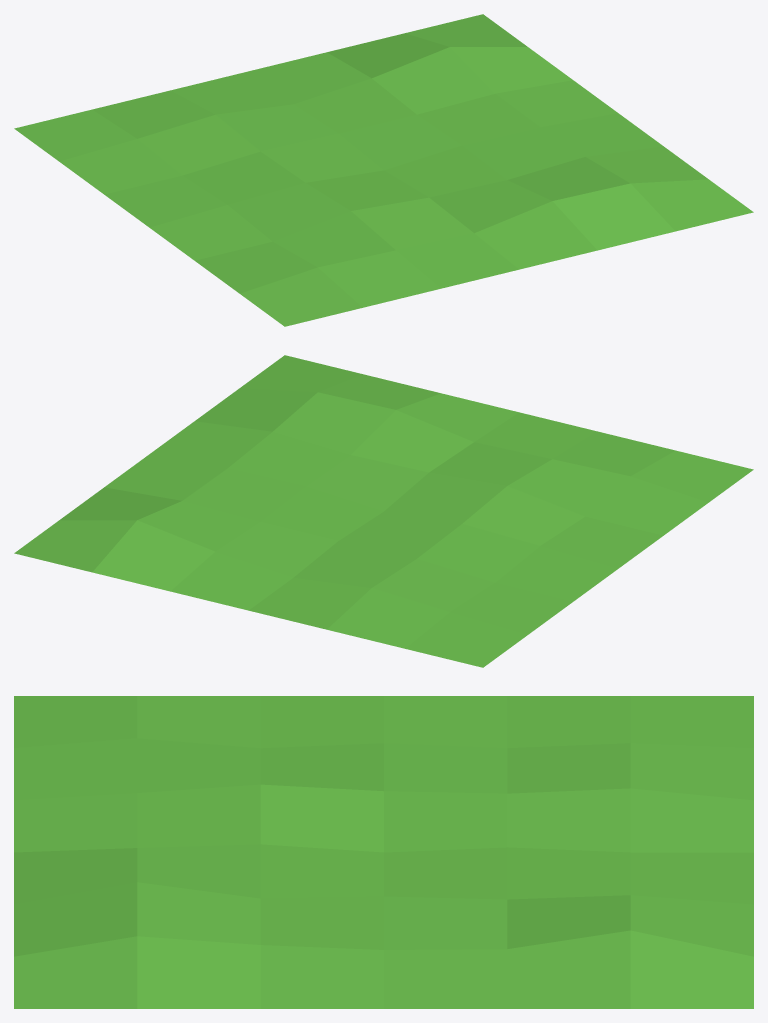
File: CastleGround.fbx
3 renders of one model, top to bottom at view 1: azimuth 30°, elevation 25°; view 2: azimuth 150°, elevation 25°; view 3: azimuth 270°, elevation 25°, orthographic. The views are drawn at different scales.
Visible parts, largest first — view 1: CastleGround; view 2: CastleGround; view 3: CastleGround.
Part boxes in pixels (x1,y1,x2,y2): CastleGround: [14, 14, 753, 326]; CastleGround: [14, 355, 753, 667]; CastleGround: [14, 696, 753, 1008].
Bounding box in the file's own units: 1000 × 39.19 × 1000.
